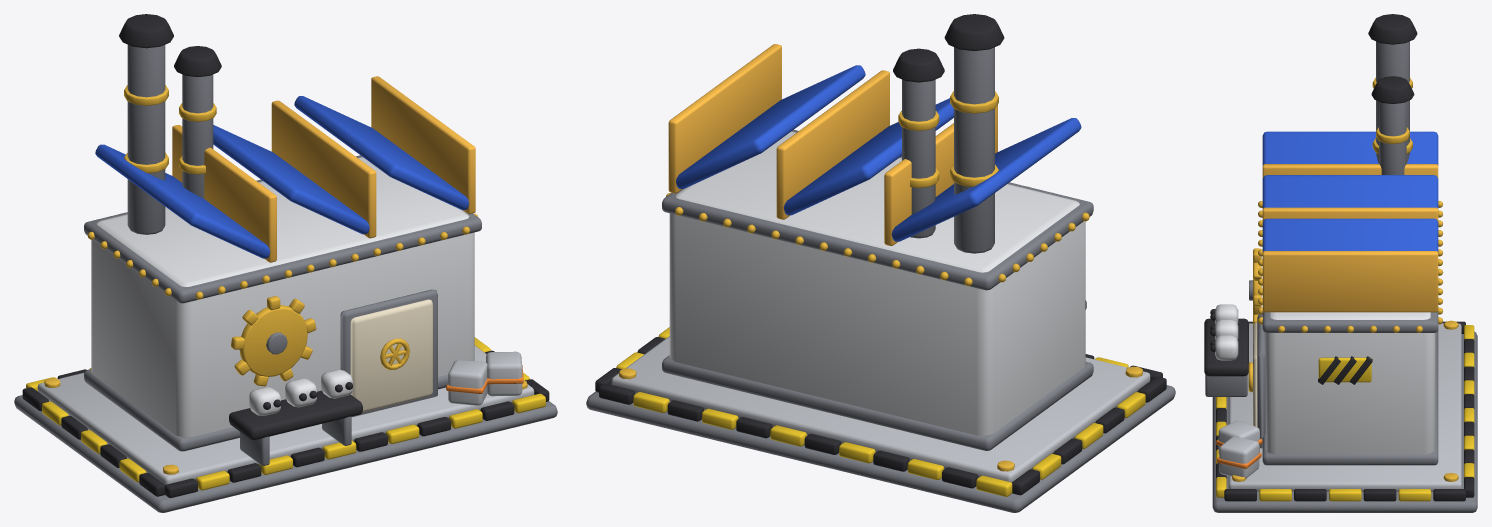
Rendered from Barracks.glb.
3 renders of one model, left to right at view 1: azimuth 30°, elevation 25°; view 2: azimuth 150°, elevation 25°; view 3: azimuth 270°, elevation 25°, orthographic. The views are drawn at different scales.
Parts seen in each view (by area): view 1: Barracks; view 2: Barracks; view 3: Barracks.
Boxes of the visible parts, x1=… form: Barracks: x1=14, y1=14, x2=557, y2=512; Barracks: x1=586, y1=14, x2=1175, y2=512; Barracks: x1=1204, y1=14, x2=1477, y2=512.
Size of the model in its own units: 3.9 by 3.72 by 2.58.
